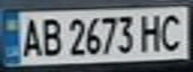2: (63, 15, 87, 56)
3: (115, 12, 139, 54)
6: (81, 14, 103, 56)
7: (100, 13, 121, 55)
A: (15, 15, 45, 58)
B: (36, 15, 63, 57)
C: (157, 10, 190, 52)
H: (136, 10, 166, 53)
